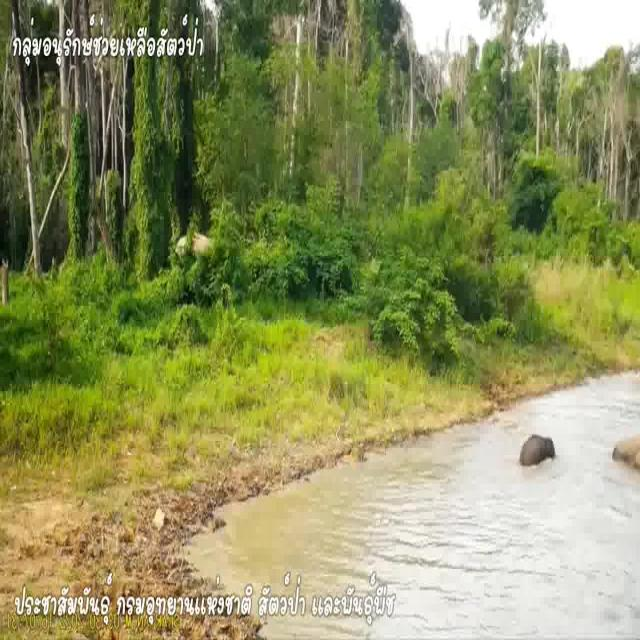Elephant: (512, 424, 560, 473)
